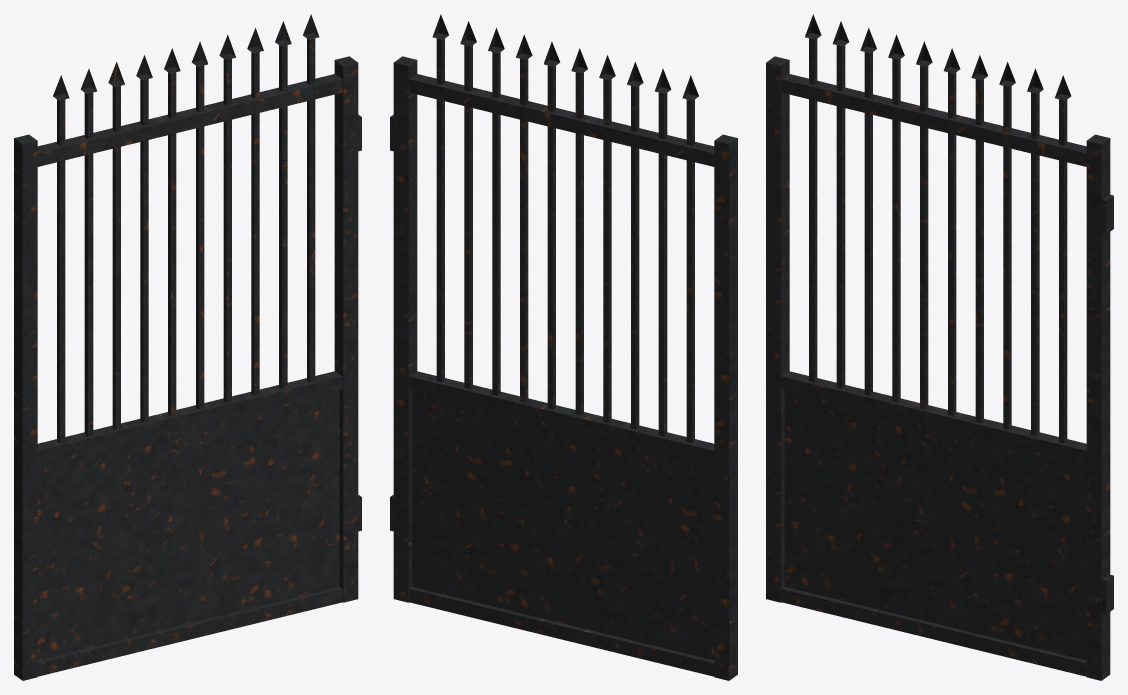
Rendered from porton_der.obj.
3 views of the same model, side by side, from view 1: azimuth 30°, elevation 25°; view 2: azimuth 150°, elevation 25°; view 3: azimuth 330°, elevation 25° (orthographic).
Visible parts, largest first — view 1: porton_hoja_der; view 2: porton_hoja_der; view 3: porton_hoja_der.
Part boxes in pixels (<box>): porton_hoja_der: <box>14,14,361,680</box>; porton_hoja_der: <box>390,14,737,680</box>; porton_hoja_der: <box>766,14,1113,680</box>.
Size of the model in its own units: 1.59 by 2.65 by 0.07.
